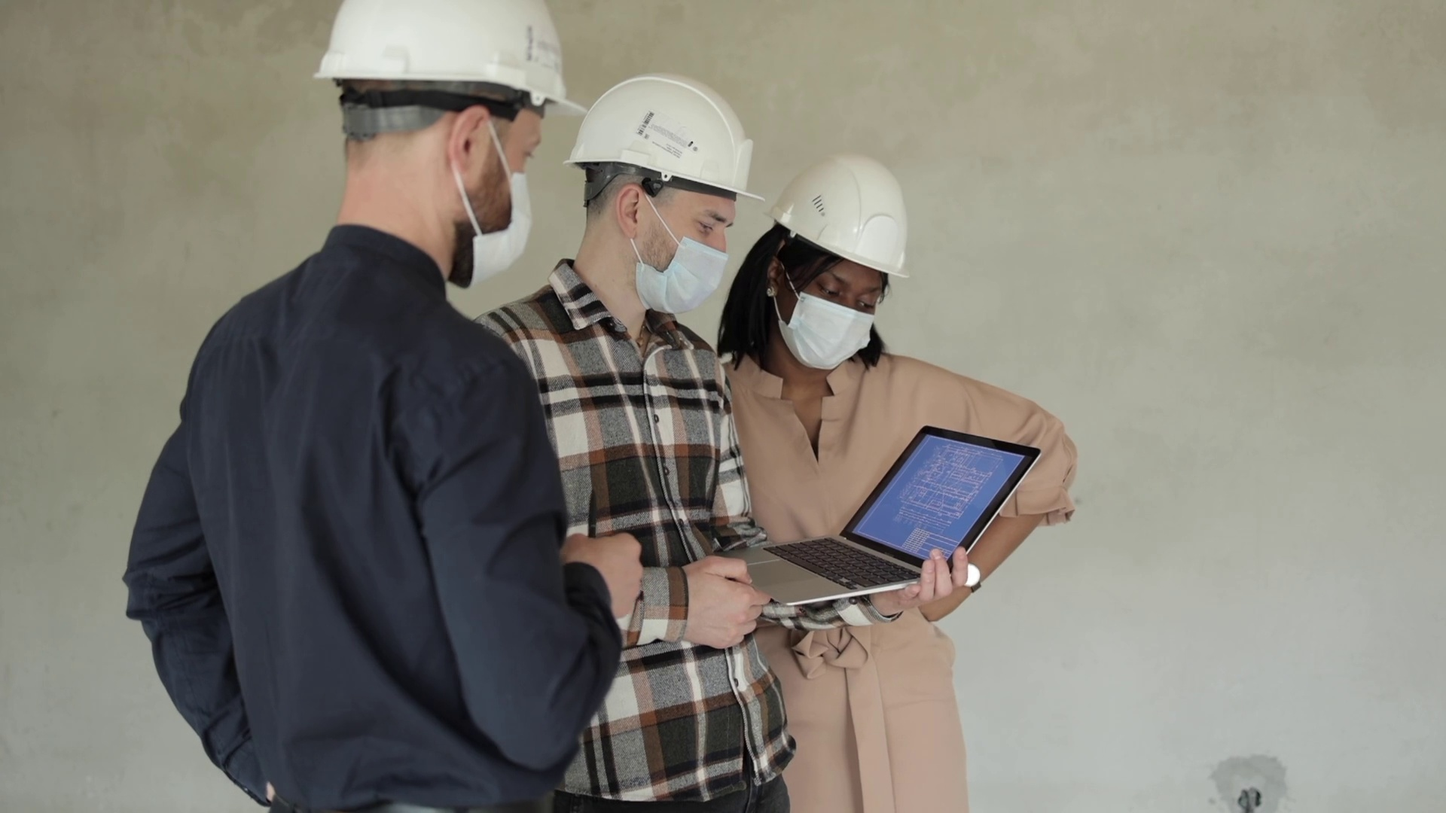helmet: (316, 0, 584, 114), (566, 75, 761, 199), (769, 154, 908, 276)
mask: (453, 119, 533, 288), (632, 194, 732, 317), (769, 274, 879, 373)
person: (120, 0, 639, 813), (479, 74, 975, 813), (715, 154, 1080, 812)
